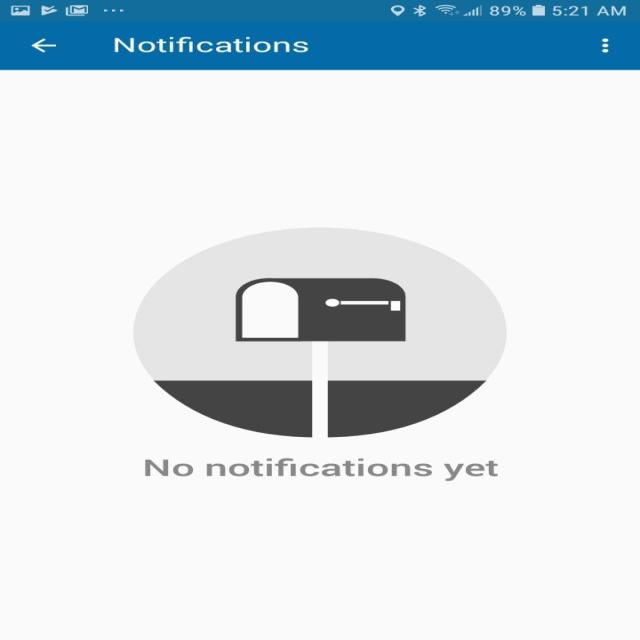Icon: (30, 38, 56, 53), (600, 38, 609, 53)
Image: (132, 227, 506, 438)
Text: (144, 457, 498, 481), (114, 36, 308, 53)
